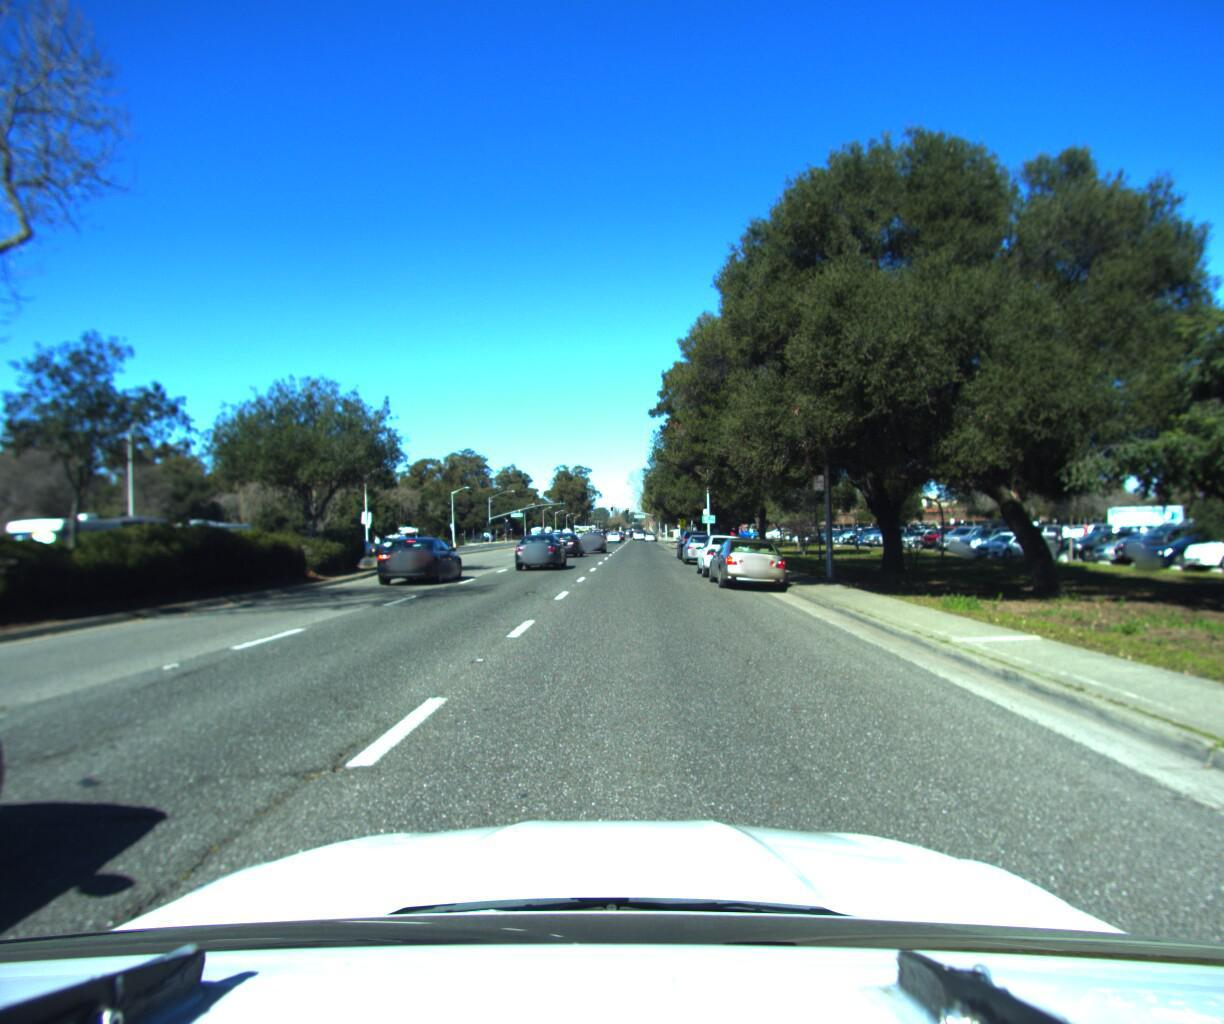car: (700, 533, 791, 592), (371, 530, 466, 583), (690, 532, 753, 580), (510, 530, 565, 569), (678, 530, 721, 565), (541, 530, 583, 558), (673, 526, 710, 557), (576, 530, 606, 552)
other_vehicle: (0, 511, 177, 594), (133, 519, 256, 581)
